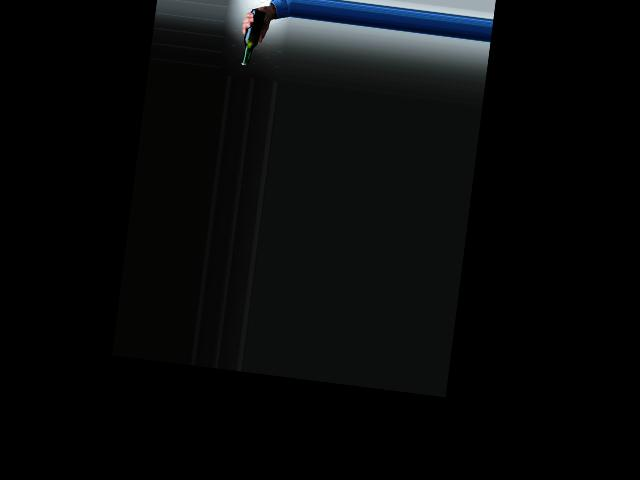beer: (240, 8, 266, 66)
